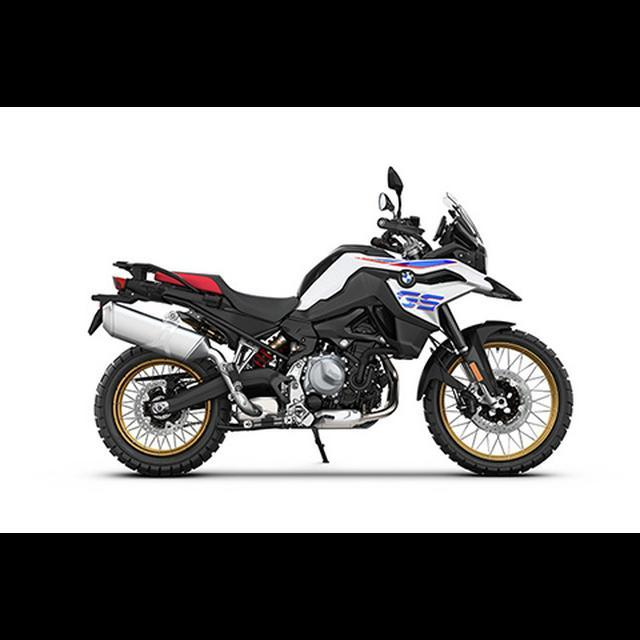motorcycle: (81, 159, 579, 484)
